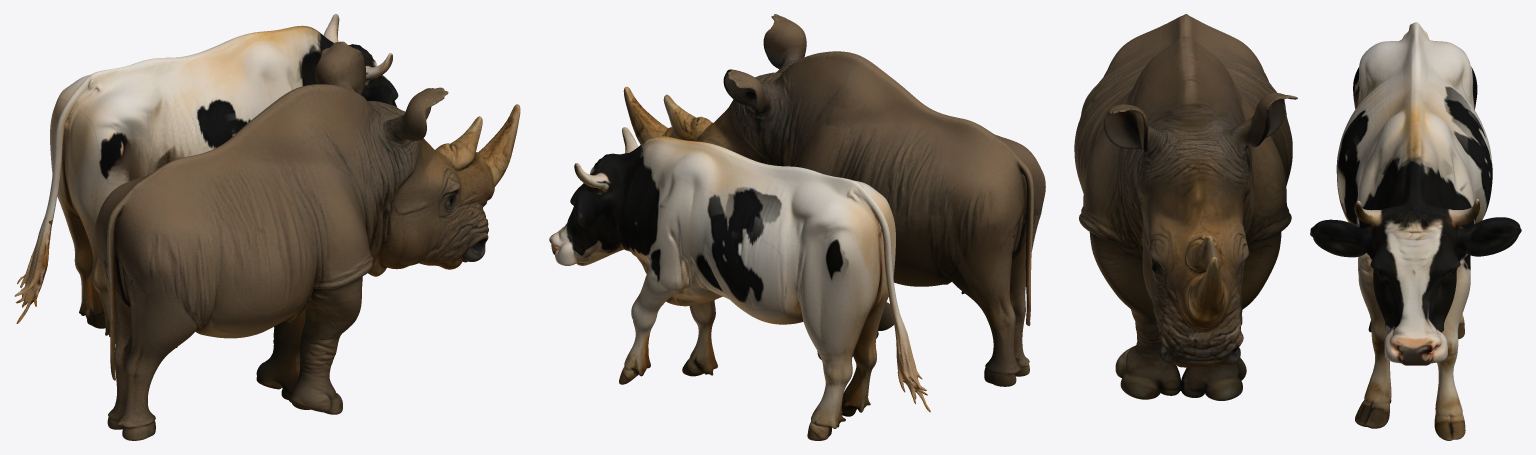
File: rhino-cow.glb
3 views of the same model, side by side, from view 1: azimuth 30°, elevation 25°; view 2: azimuth 150°, elevation 25°; view 3: azimuth 270°, elevation 25° (orthographic). The views are drawn at different scales.
Visible parts, largest first — view 1: tripo_node_a6e95aaa-af94-4353-b113-a64da3df6a93; view 2: tripo_node_a6e95aaa-af94-4353-b113-a64da3df6a93; view 3: tripo_node_a6e95aaa-af94-4353-b113-a64da3df6a93.
Part boxes in pixels (left/top/right/bottom): tripo_node_a6e95aaa-af94-4353-b113-a64da3df6a93: left=14, top=14, right=520, bottom=440; tripo_node_a6e95aaa-af94-4353-b113-a64da3df6a93: left=549, top=14, right=1045, bottom=440; tripo_node_a6e95aaa-af94-4353-b113-a64da3df6a93: left=1074, top=14, right=1521, bottom=440.
Size of the model in its own units: 1 by 0.707 by 0.813.
Materials: 1 (1 with a texture image).
